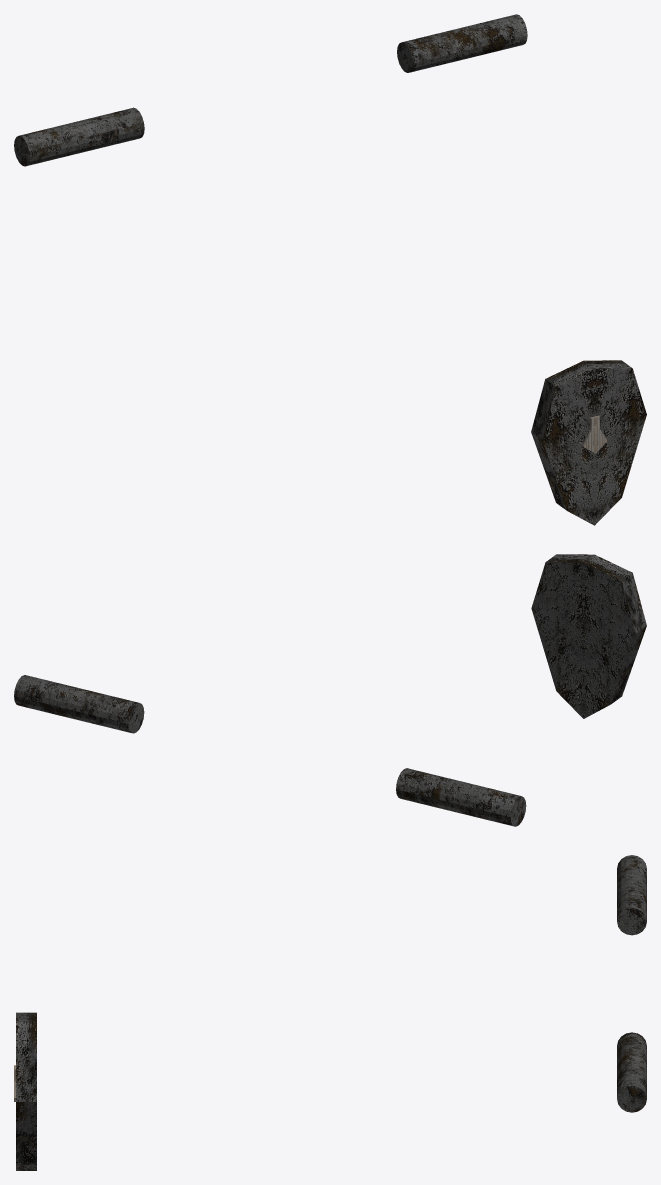
The model's file is SM_Treasurechest_Peripherals.fbx.
3 renders of one model, top to bottom at view 1: azimuth 30°, elevation 25°; view 2: azimuth 150°, elevation 25°; view 3: azimuth 270°, elevation 25°, orthographic. The views are drawn at different scales.
Parts seen in each view (by area): view 1: Plane, Cylinder; view 2: Plane, Cylinder; view 3: Cylinder, Plane.
Boxes of the visible parts, x1,y1,x2,y2 form: Plane: (531,360,646,525); Cylinder: (14,14,527,166); Plane: (531,554,646,718); Cylinder: (14,675,526,826); Cylinder: (617,855,646,1112); Plane: (16,1012,36,1170).
Bounding box in the file's own units: 260 × 106 × 302.
2 materials, 2 textured.
